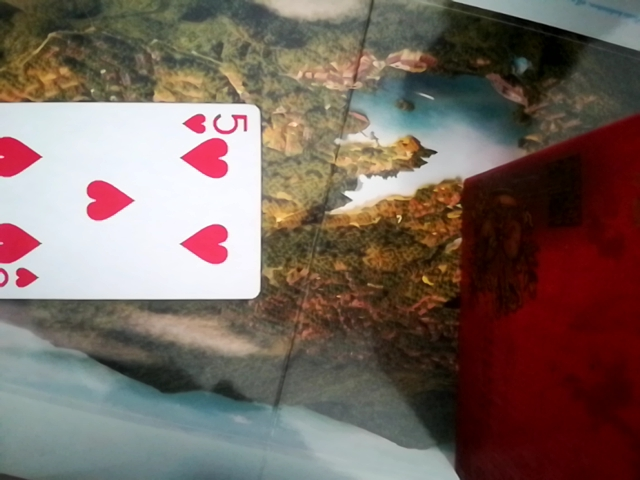hx 5: (0, 97, 261, 305)
